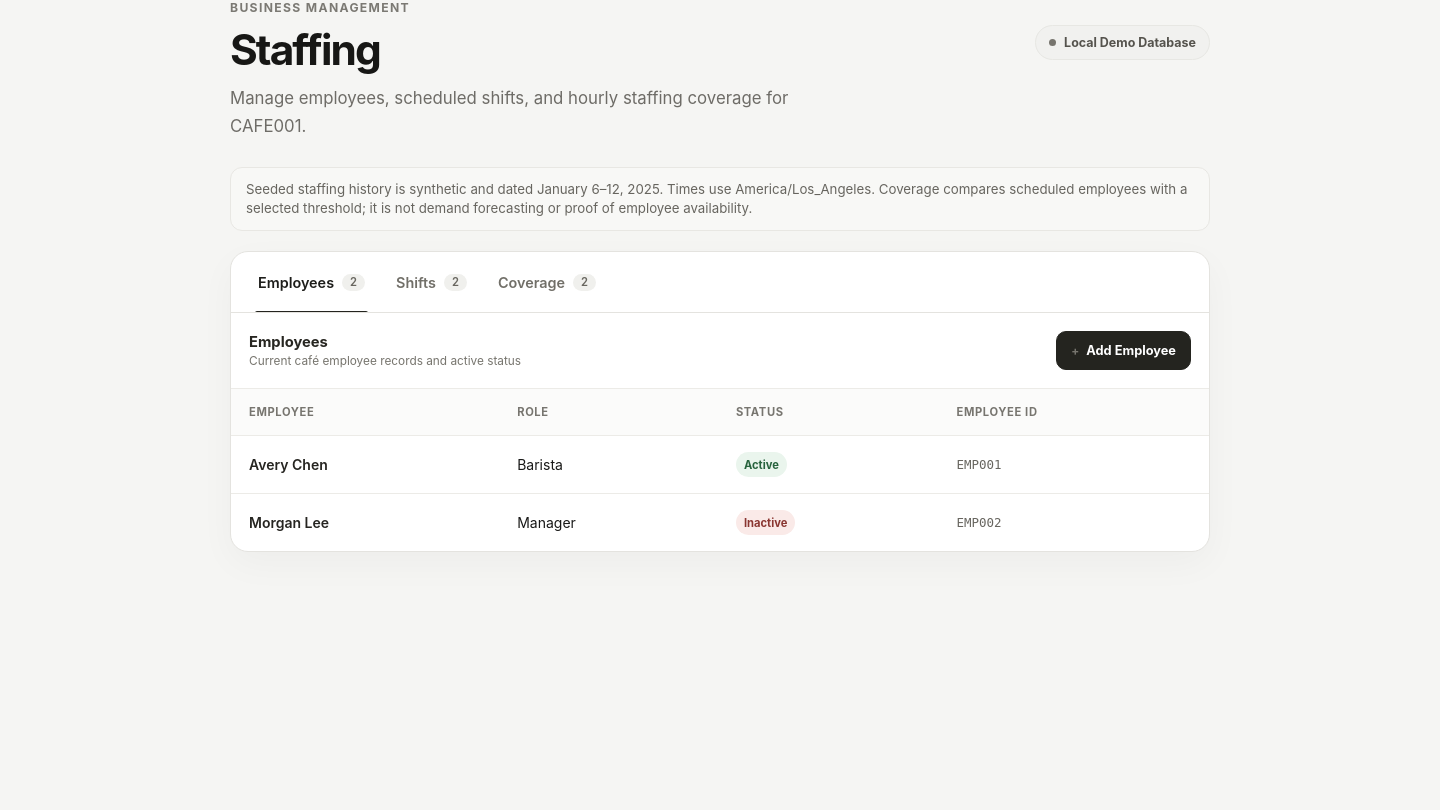
StaffingPage › validates and creates an employee from the modal
The width and height of the screenshot is (1440, 810).
expect the text "Avery Chen" is shown: met, box [231,436,499,494]
Click the button "+ Add Employee" at (1124, 351), box [1056,331,1191,370]
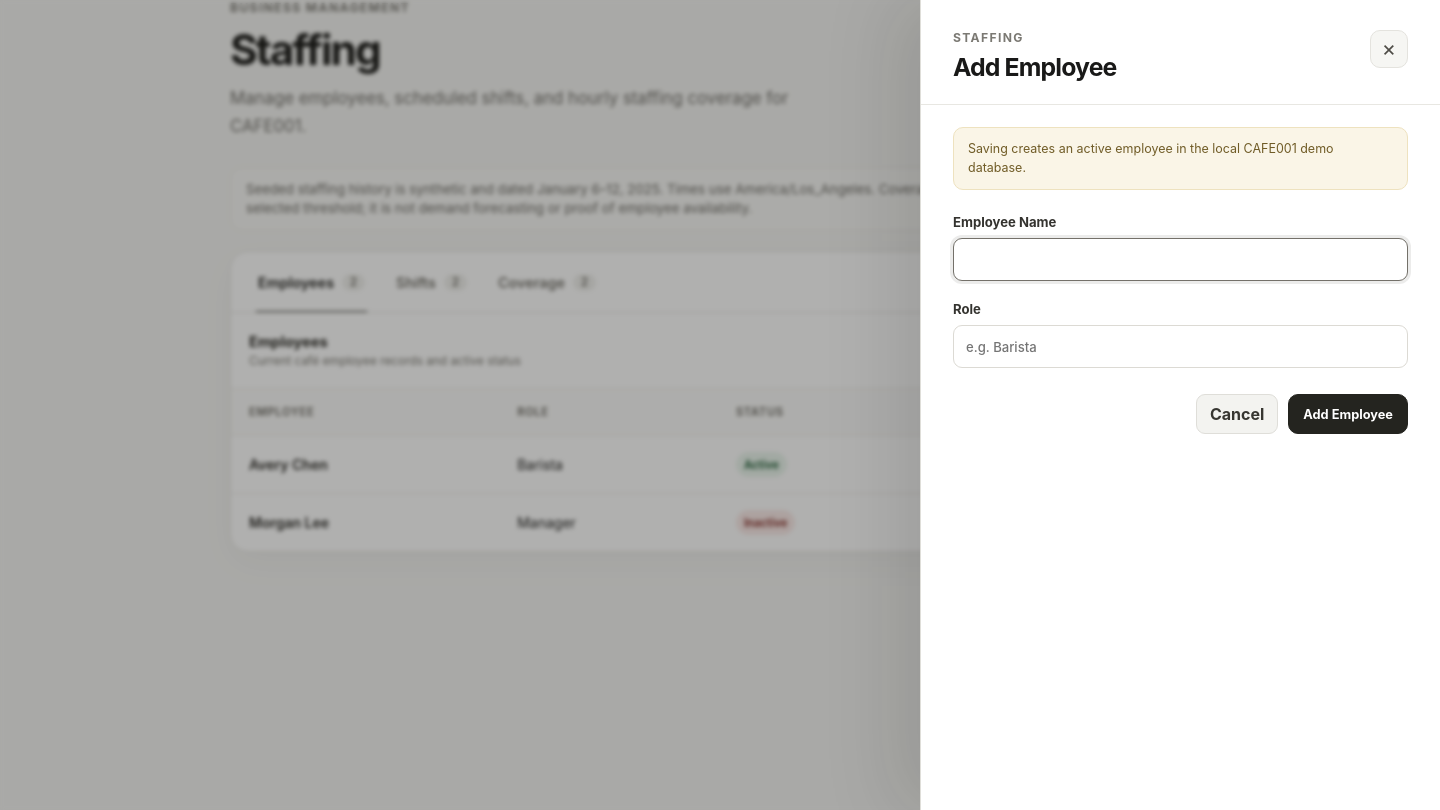
Click the button "Add Employee" at (1348, 414), box [1288,394,1408,434]
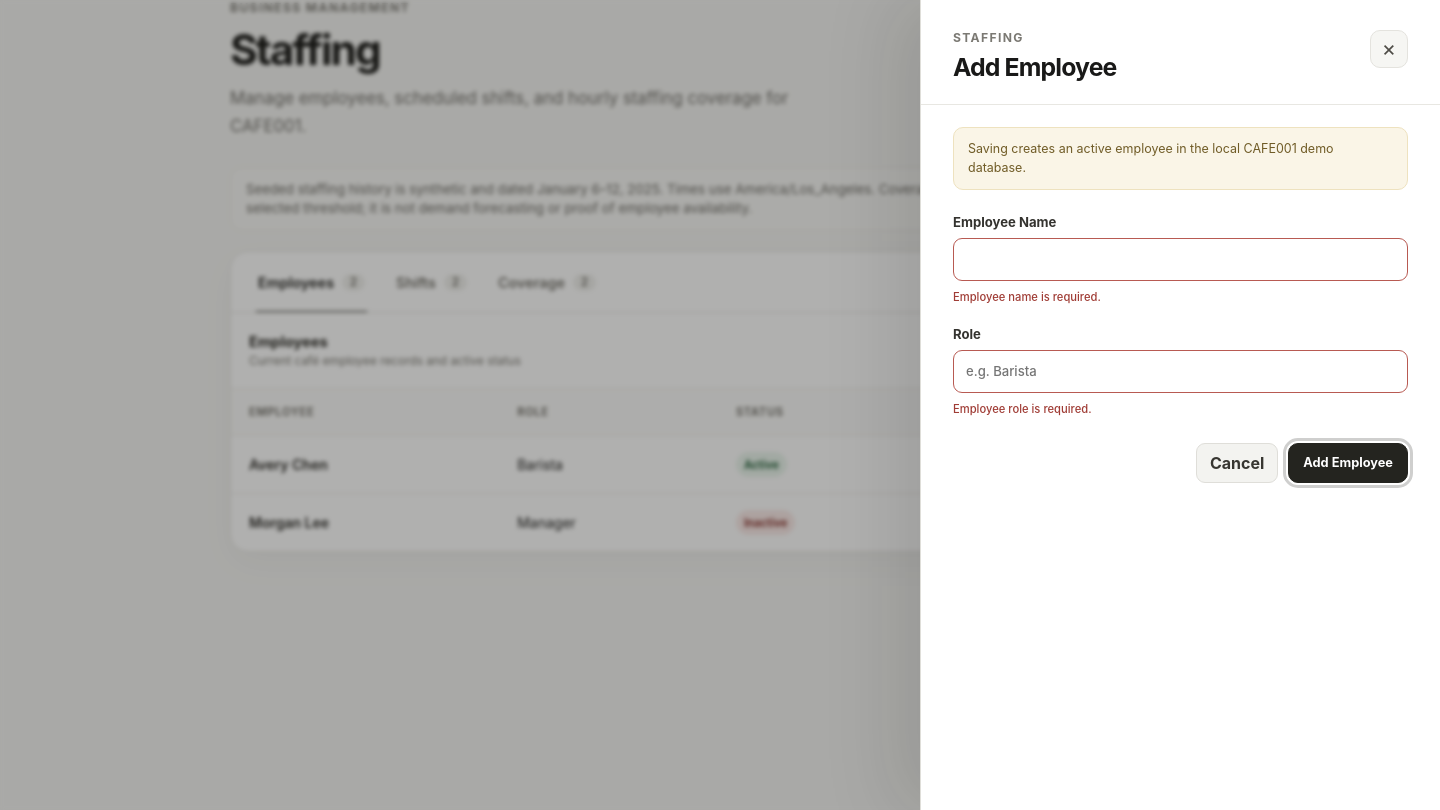
expect the text "Employee name is required." is shown: met, box [953,290,1101,304]
expect the text "Employee role is required." is shown: met, box [953,402,1092,416]
Type "Riley Stone" into the field labelled "Employee Name" at (1180, 260), box [953,238,1408,281]
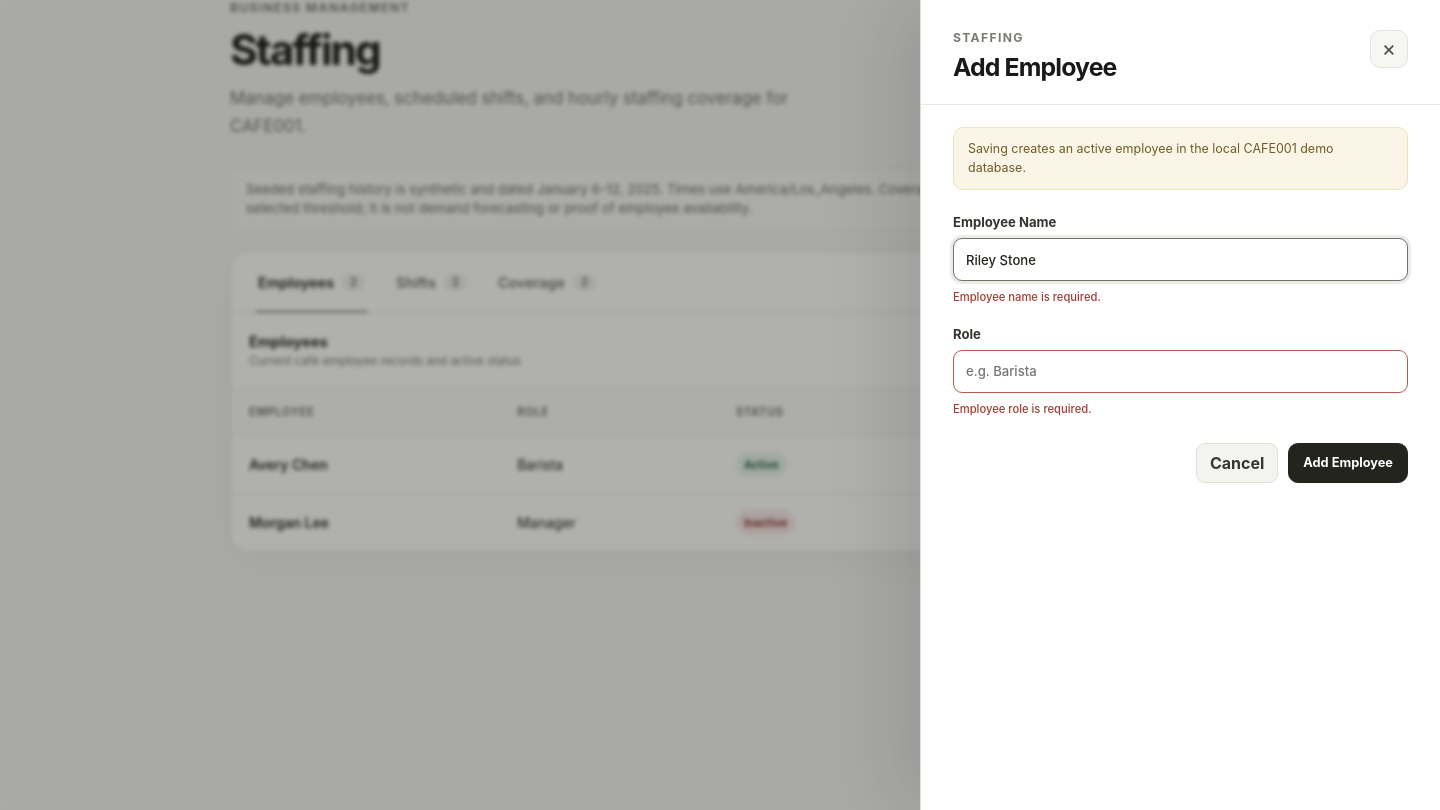
Type "Shift Lead" into the field labelled "Role" at (1180, 371), box [953,350,1408,393]
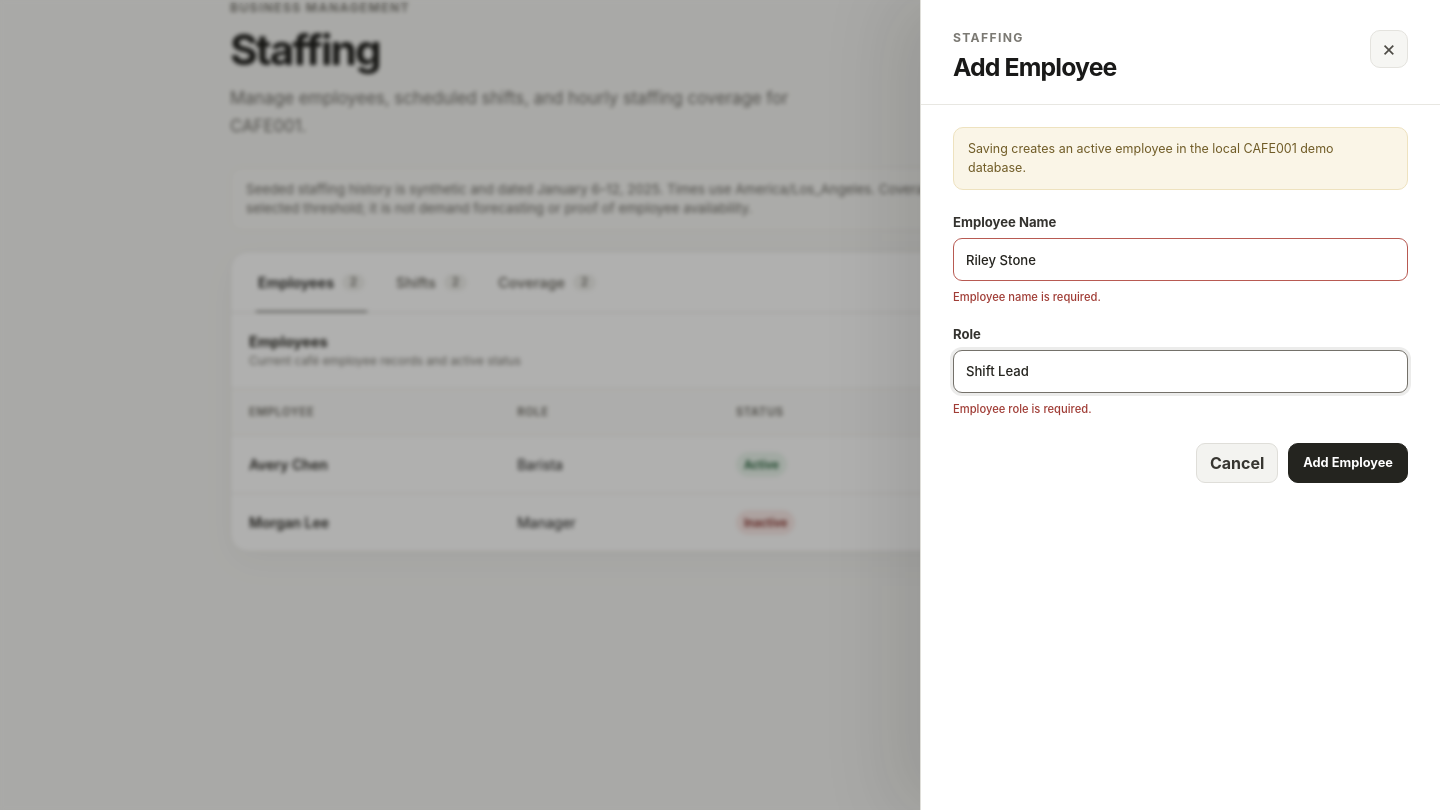
Click the button "Add Employee" at (1348, 463), box [1288,443,1408,483]
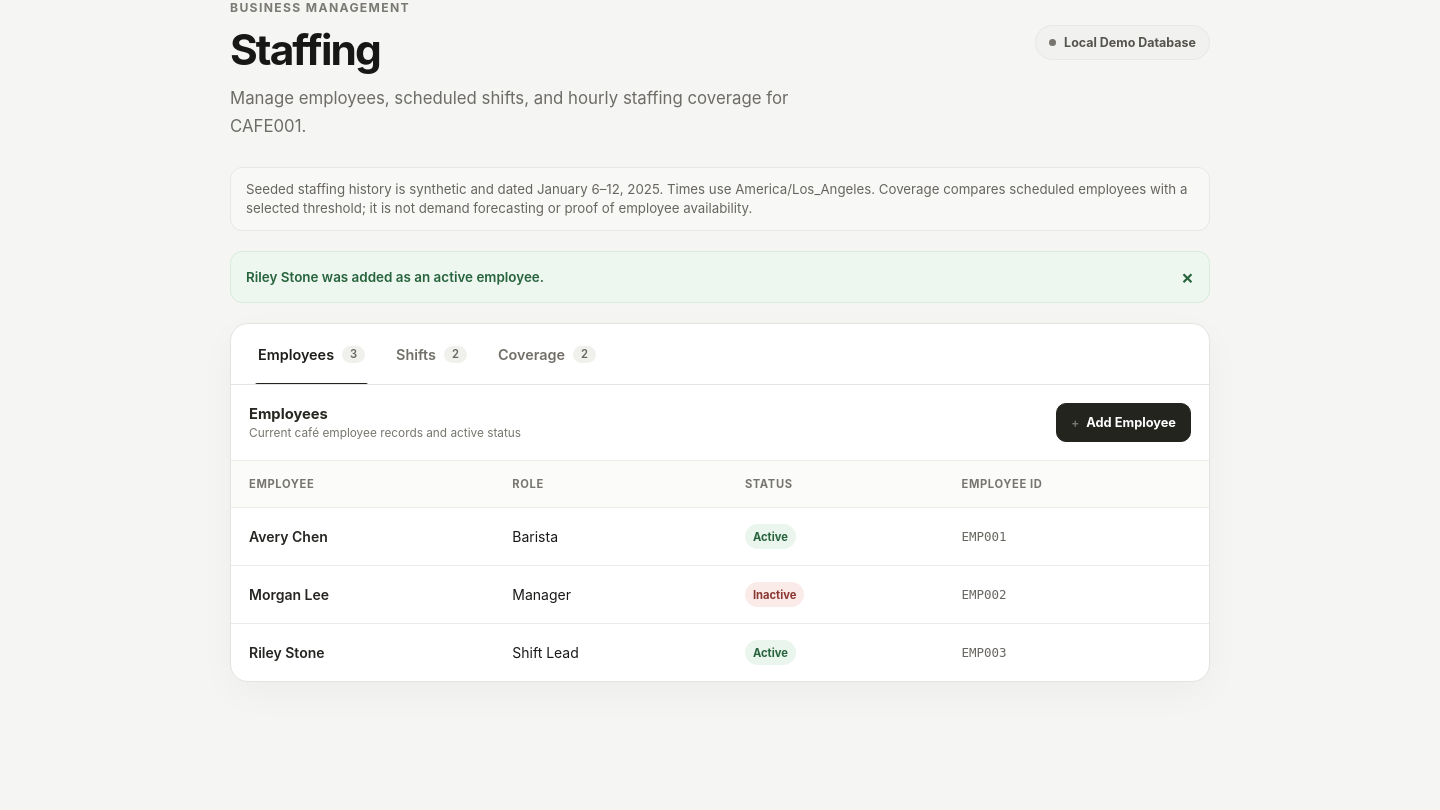
expect the text "Riley Stone was added as an active employee." is shown: met, box [246,269,544,285]
